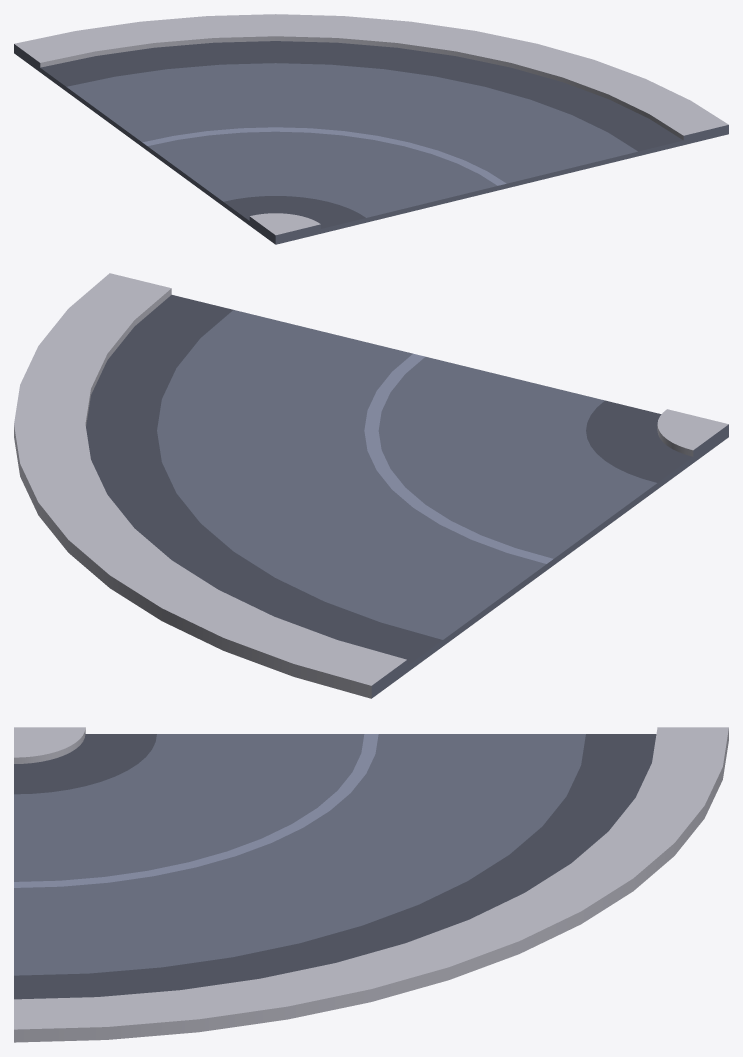
The model's file is road_bend.fbx.
The picture shows the model from 3 angles, top to bottom: view 1: azimuth 30°, elevation 25°; view 2: azimuth 150°, elevation 25°; view 3: azimuth 270°, elevation 25°; orthographic projection. The views are drawn at different scales.
Visible parts, largest first — view 1: road_bend; view 2: road_bend; view 3: road_bend.
Part boxes in pixels (left/top/right/bottom): road_bend: left=14, top=14, right=728, bottom=244; road_bend: left=14, top=273, right=728, bottom=698; road_bend: left=14, top=727, right=728, bottom=1042.
Bounding box in the file's own units: 10 × 0.2 × 10.
